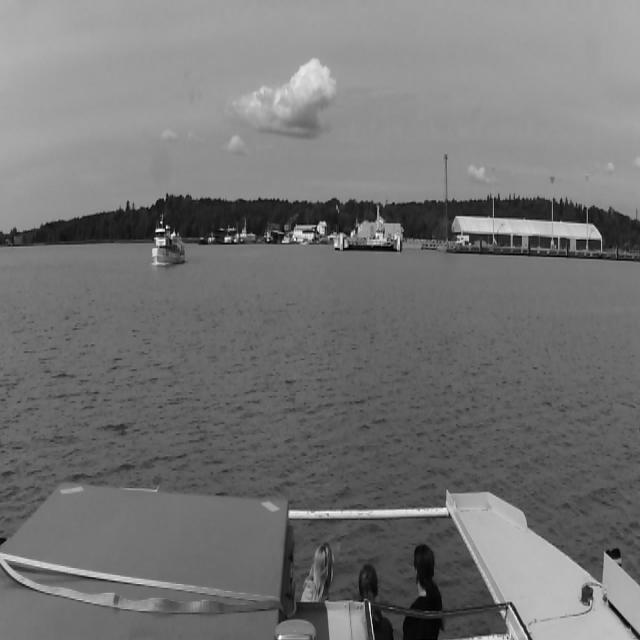ship: (147, 206, 185, 271)
